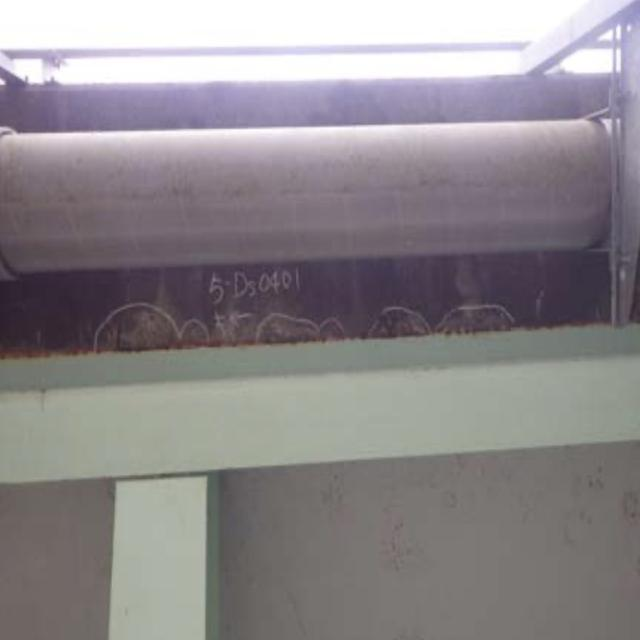spalling: (59, 297, 544, 357)
